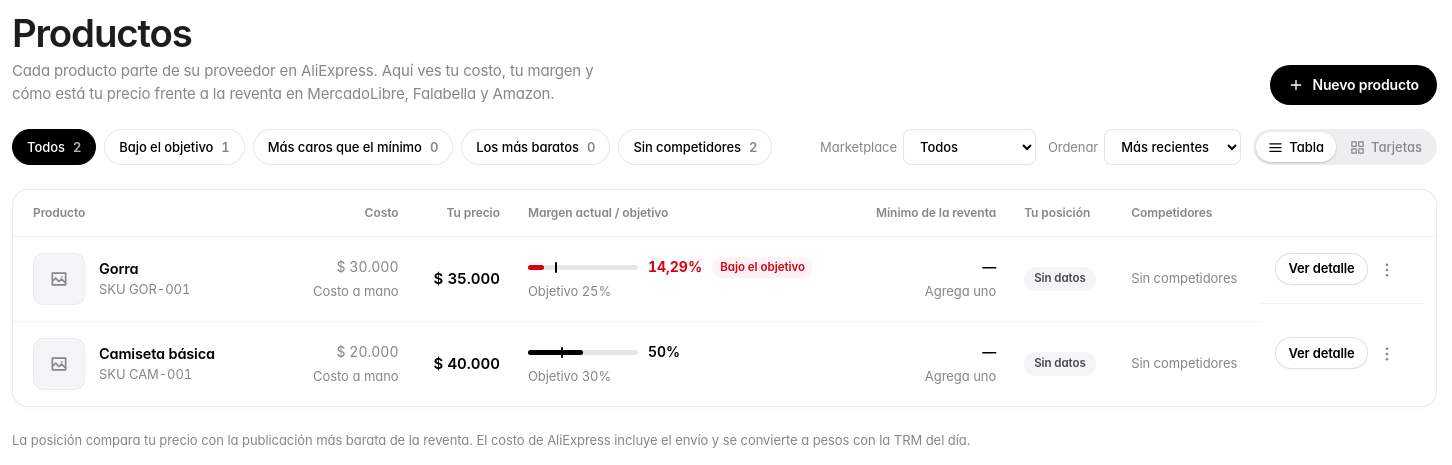
productos › filtra los productos bajo su margen objetivo
The image size is (1452, 465).
Click the button "Bajo el objetivo 1".
click(175, 147)  # box [104,129,245,165]
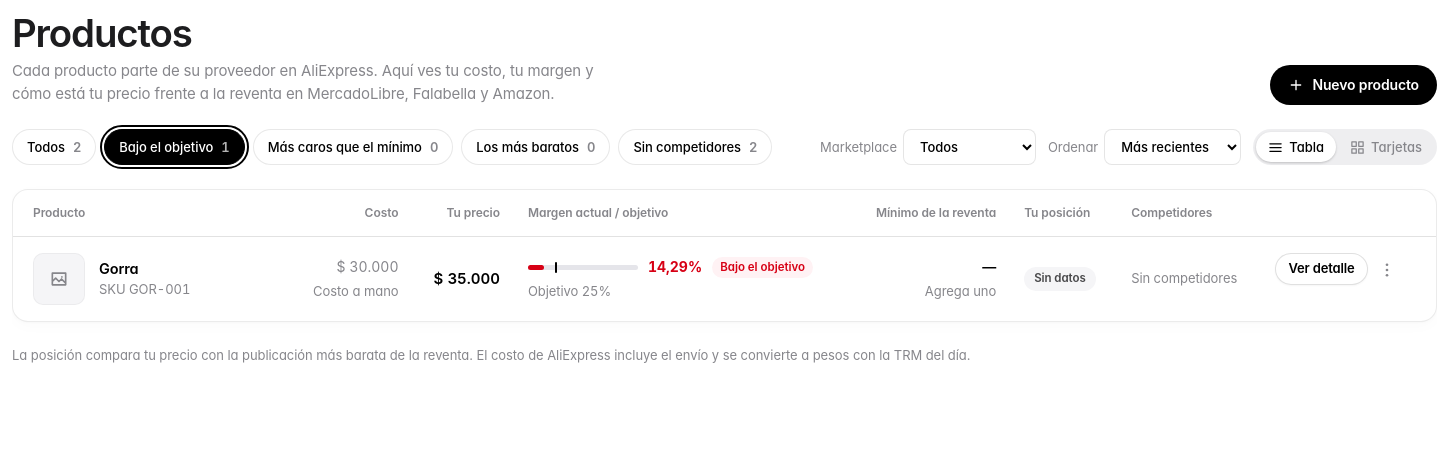
Check: the row "Gorra" is shown, box [13,237,1436,321]
Check: the link "Camiseta básica" is gone
